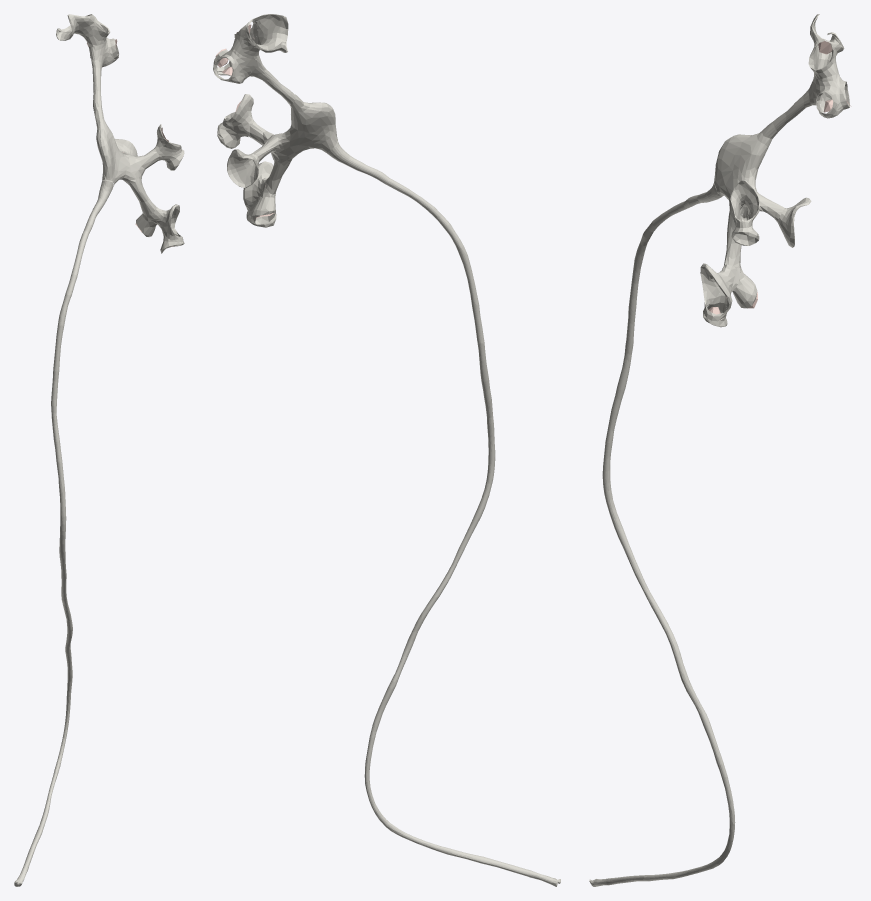
The model's file is VH_F_Ureter_L_0.2.glb.
3 views of the same model, side by side, from view 1: azimuth 30°, elevation 25°; view 2: azimuth 150°, elevation 25°; view 3: azimuth 270°, elevation 25° (orthographic). The views are drawn at different scales.
Visible parts, largest first — view 1: VH_F_left_ureter, VH_F_renal_pelvis_L, VH_F_minor_calyx_L_a, VH_F_major_calyx_L_a, VH_F_minor_calyx_L_h, VH_F_major_calyx_L_d, VH_F_major_calyx_L_c, VH_F_minor_calyx_L_f; view 2: VH_F_left_ureter, VH_F_renal_pelvis_L, VH_F_minor_calyx_L_a, VH_F_minor_calyx_L_e, VH_F_minor_calyx_L_c, VH_F_minor_calyx_L_f; view 3: VH_F_left_ureter, VH_F_renal_pelvis_L, VH_F_minor_calyx_L_h, VH_F_minor_calyx_L_f, VH_F_major_calyx_L_a, VH_F_minor_calyx_L_e, VH_F_minor_calyx_L_a, VH_F_minor_calyx_L_i, VH_F_minor_calyx_L_d, VH_F_major_calyx_L_d, VH_F_minor_calyx_L_c, VH_F_minor_calyx_L_b.
Part boxes in pixels (x1=…): VH_F_left_ureter: x1=14, y1=180, x2=113, y2=886; VH_F_renal_pelvis_L: x1=94, y1=106, x2=130, y2=184; VH_F_minor_calyx_L_a: x1=56, y1=14, x2=99, y2=48; VH_F_major_calyx_L_a: x1=89, y1=43, x2=105, y2=110; VH_F_minor_calyx_L_h: x1=150, y1=204, x2=183, y2=242; VH_F_major_calyx_L_d: x1=129, y1=173, x2=156, y2=216; VH_F_major_calyx_L_c: x1=128, y1=148, x2=159, y2=180; VH_F_minor_calyx_L_f: x1=154, y1=124, x2=181, y2=156; VH_F_left_ureter: x1=327, y1=141, x2=560, y2=886; VH_F_renal_pelvis_L: x1=281, y1=94, x2=337, y2=158; VH_F_minor_calyx_L_a: x1=236, y1=14, x2=288, y2=59; VH_F_minor_calyx_L_e: x1=227, y1=149, x2=259, y2=187; VH_F_minor_calyx_L_c: x1=213, y1=48, x2=256, y2=83; VH_F_minor_calyx_L_f: x1=222, y1=94, x2=254, y2=130; VH_F_left_ureter: x1=589, y1=182, x2=735, y2=886; VH_F_renal_pelvis_L: x1=714, y1=122, x2=777, y2=214; VH_F_minor_calyx_L_h: x1=700, y1=263, x2=736, y2=321; VH_F_minor_calyx_L_f: x1=730, y1=180, x2=759, y2=227; VH_F_major_calyx_L_a: x1=773, y1=76, x2=823, y2=131; VH_F_minor_calyx_L_e: x1=777, y1=197, x2=811, y2=247; VH_F_minor_calyx_L_a: x1=810, y1=14, x2=844, y2=69; VH_F_minor_calyx_L_i: x1=732, y1=268, x2=757, y2=308; VH_F_minor_calyx_L_d: x1=815, y1=74, x2=838, y2=117; VH_F_major_calyx_L_d: x1=724, y1=202, x2=743, y2=267; VH_F_minor_calyx_L_c: x1=816, y1=73, x2=849, y2=118; VH_F_minor_calyx_L_b: x1=808, y1=39, x2=838, y2=79.
Size of the model in its own units: 0.0825 by 0.2661 by 0.0674.
